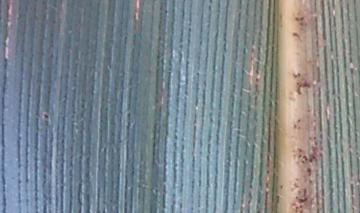tarspot: (294, 78, 312, 96), (291, 31, 302, 41), (296, 197, 309, 204), (308, 155, 316, 164), (273, 194, 280, 204), (125, 111, 132, 121), (306, 166, 312, 177), (41, 112, 49, 120), (293, 15, 300, 24), (302, 186, 307, 198), (302, 154, 309, 161), (296, 146, 303, 153), (299, 15, 305, 23), (292, 122, 297, 131), (291, 71, 297, 78), (295, 118, 302, 124), (162, 9, 168, 16), (297, 153, 302, 160), (296, 72, 301, 78), (208, 1, 213, 5)
